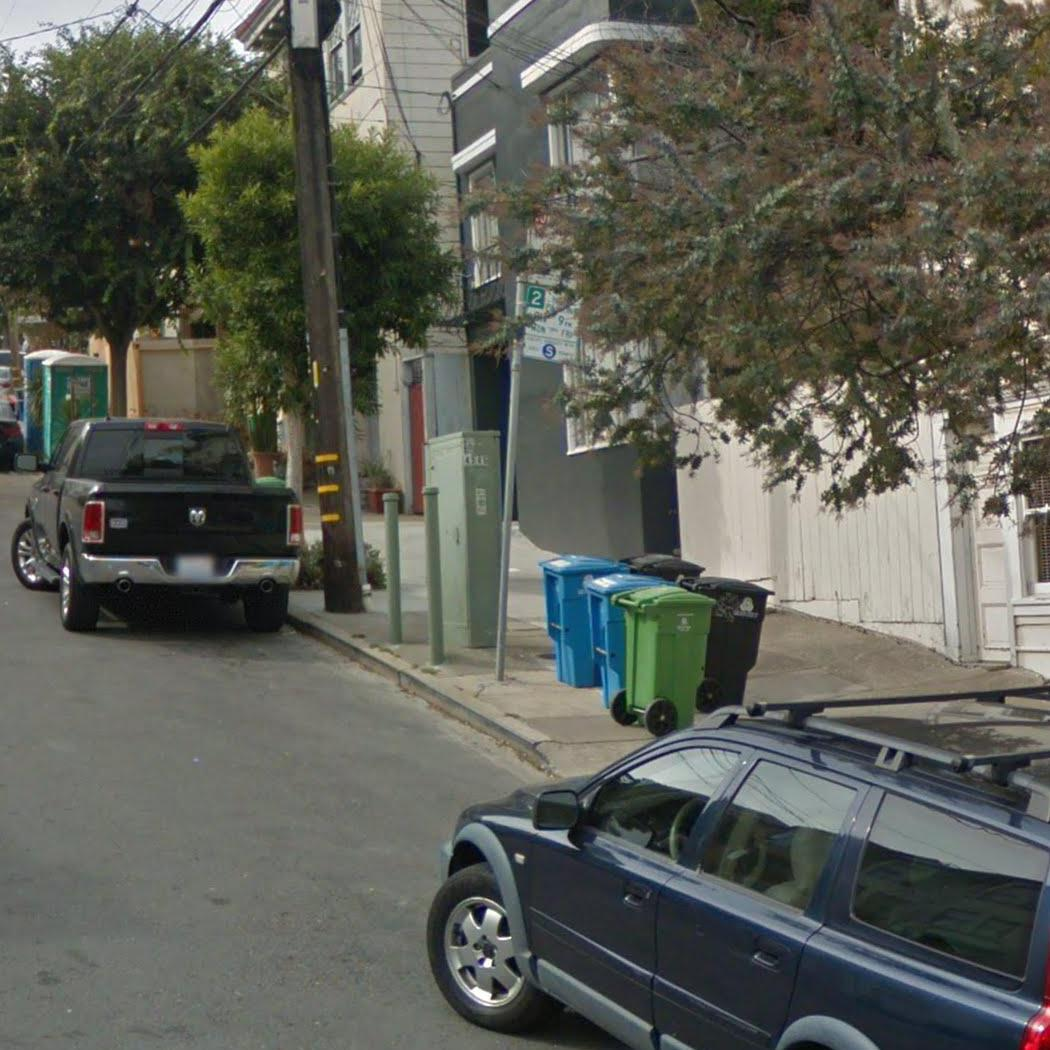2 Hour Parking: (518, 280, 586, 368)
